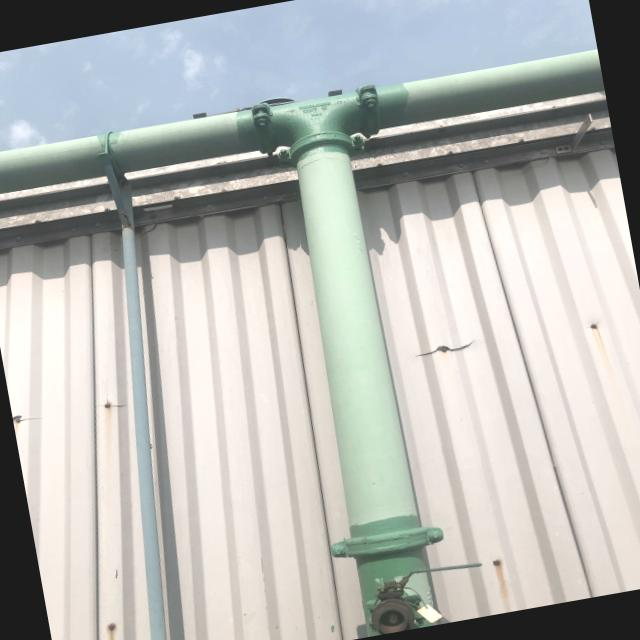gas: (0, 43, 605, 203), (276, 87, 428, 568)
